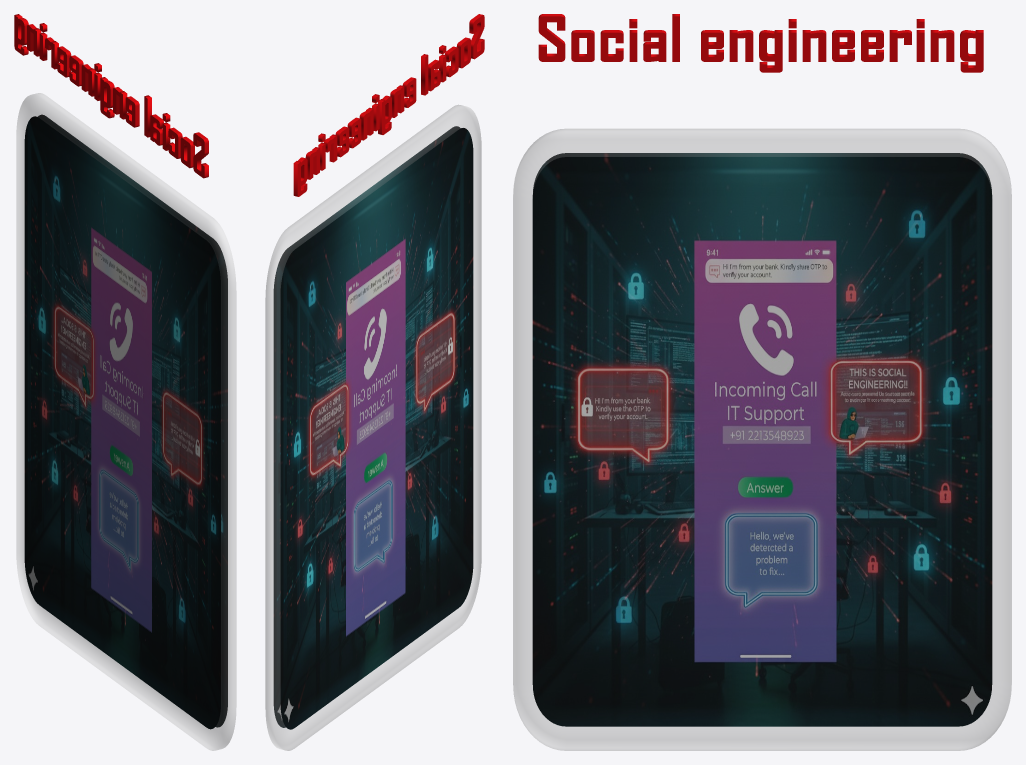
The model's file is social_engineering.glb.
The picture shows the model from 3 angles, left to right: view 1: azimuth 30°, elevation 25°; view 2: azimuth 150°, elevation 25°; view 3: azimuth 270°, elevation 25°; orthographic projection. The views are drawn at different scales.
Visible parts, largest first — view 1: Plane, Text; view 2: Plane, Text; view 3: Plane, Text.
Boxes of the visible parts, x1,y1,x2,y2 form: Plane: (16,93,236,750); Text: (14,14,208,178); Plane: (265,105,481,750); Text: (293,14,484,196); Plane: (513,129,1011,750); Text: (538,14,983,72).
Size of the model in its own units: 0.2347 by 6.68 by 4.16.
3 materials, 1 textured.
